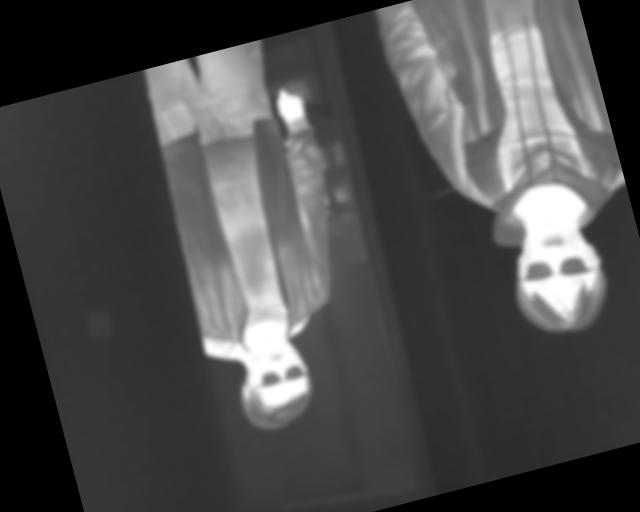face: (500, 208, 618, 344), (233, 330, 321, 431)
